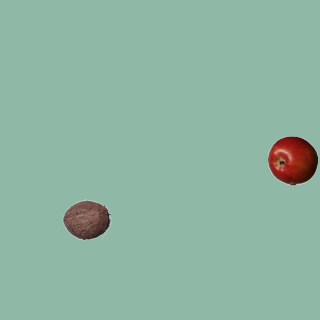Apple Braeburn: (267, 135, 317, 185)
Cocos: (61, 194, 111, 244)
